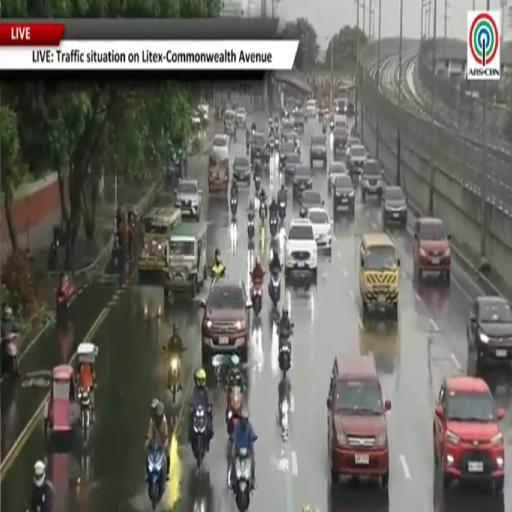car: (327, 356, 391, 488), (433, 376, 504, 492), (201, 279, 251, 364), (360, 233, 400, 321), (467, 297, 511, 363), (414, 217, 450, 282), (285, 219, 317, 282), (308, 207, 332, 254), (382, 186, 407, 228), (176, 180, 202, 220), (361, 159, 384, 201), (333, 175, 354, 217), (348, 144, 367, 178), (300, 190, 323, 217), (293, 165, 312, 197), (328, 162, 347, 190), (233, 156, 251, 185), (310, 136, 326, 168), (280, 141, 296, 171), (333, 127, 347, 159), (285, 153, 302, 179), (212, 134, 229, 159), (252, 133, 266, 162), (282, 132, 300, 153), (224, 109, 236, 138), (346, 137, 362, 156), (333, 98, 348, 115), (293, 111, 305, 132), (191, 109, 202, 130), (198, 104, 209, 123), (306, 100, 317, 118), (236, 107, 246, 126), (334, 115, 347, 129), (282, 119, 294, 134)
jeepney: (164, 222, 207, 297), (138, 206, 181, 275), (209, 152, 229, 195)
motorcycle: (147, 441, 166, 509), (191, 406, 208, 469), (234, 448, 251, 511), (227, 387, 243, 437), (2, 332, 19, 377), (78, 388, 91, 443), (168, 356, 181, 403), (56, 285, 72, 318), (279, 336, 291, 376), (278, 398, 290, 438), (268, 271, 280, 307), (111, 230, 121, 267), (252, 281, 262, 316), (230, 196, 238, 217), (270, 216, 278, 237), (259, 202, 267, 221), (248, 218, 254, 241), (279, 201, 286, 220), (279, 155, 285, 172), (255, 174, 260, 192), (274, 138, 279, 151), (246, 141, 250, 155), (330, 121, 334, 132)
